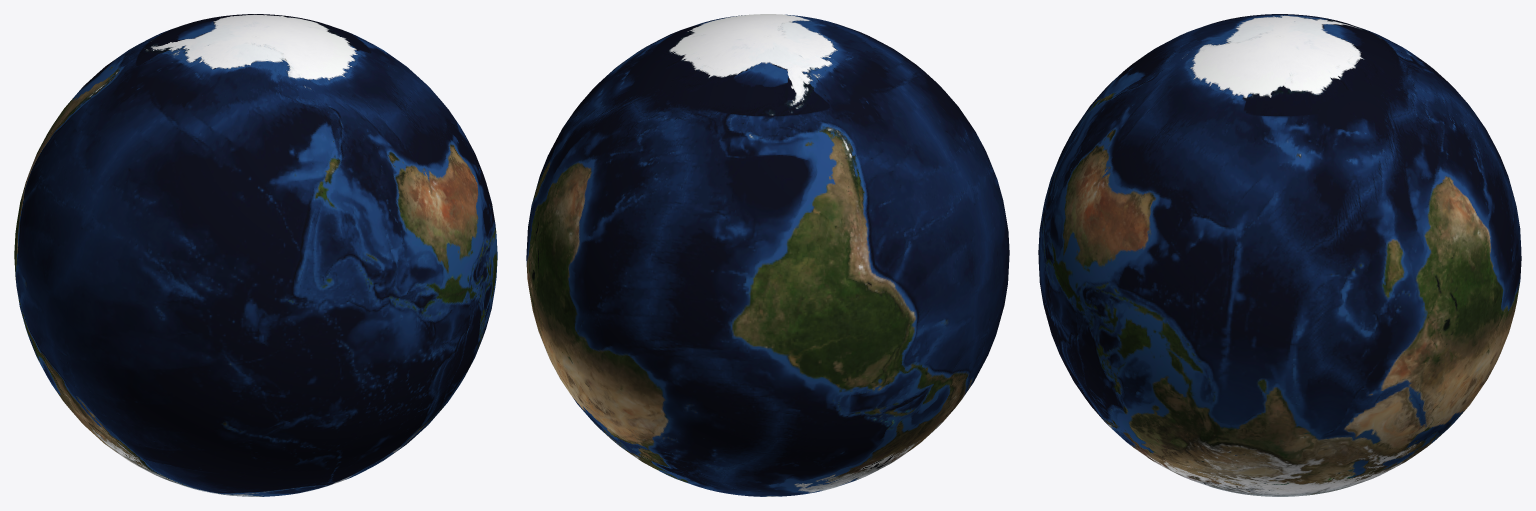
The picture shows the model from 3 angles, left to right: view 1: azimuth 30°, elevation 25°; view 2: azimuth 150°, elevation 25°; view 3: azimuth 270°, elevation 25°; orthographic projection.
Visible parts, largest first — view 1: earth; view 2: earth; view 3: earth.
Part boxes in pixels (bbox=[...]): earth: bbox=[14, 14, 497, 496]; earth: bbox=[526, 14, 1009, 496]; earth: bbox=[1038, 14, 1521, 496].
Size of the model in its own units: 5 by 5.01 by 5.
